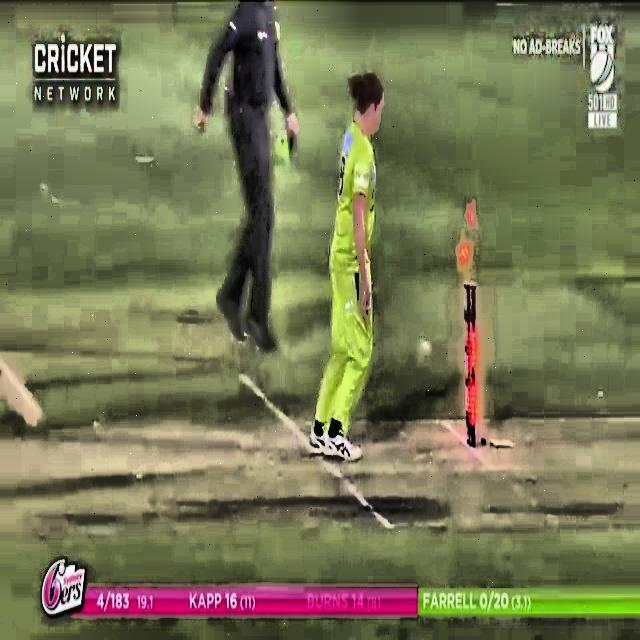Ball: (408, 334, 441, 365)
Dis_Wicket: (449, 208, 490, 456)
Pitch_Line: (236, 371, 318, 454), (318, 454, 393, 533)
